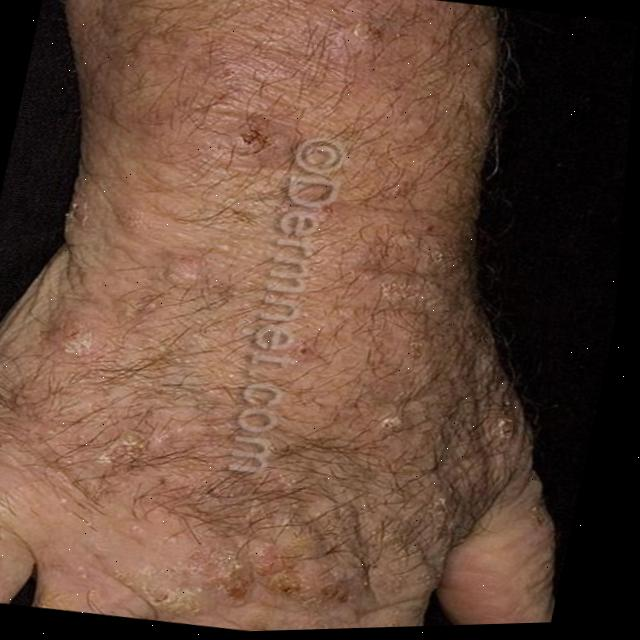Eczema: (7, 233, 440, 638)
